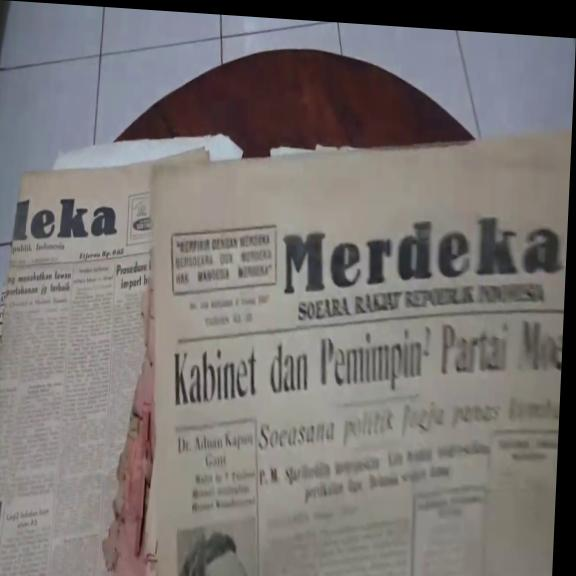Kertas: (138, 103, 565, 576), (0, 141, 190, 576)
